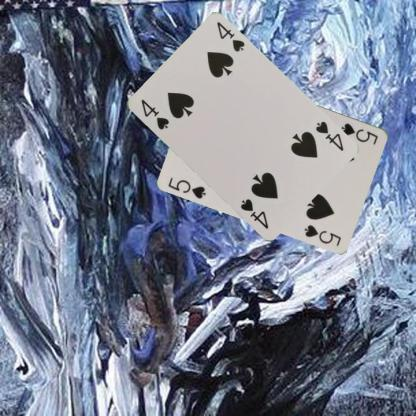4s: (138, 97, 170, 131), (312, 118, 344, 152)
5s: (338, 120, 380, 146), (166, 174, 208, 200)
